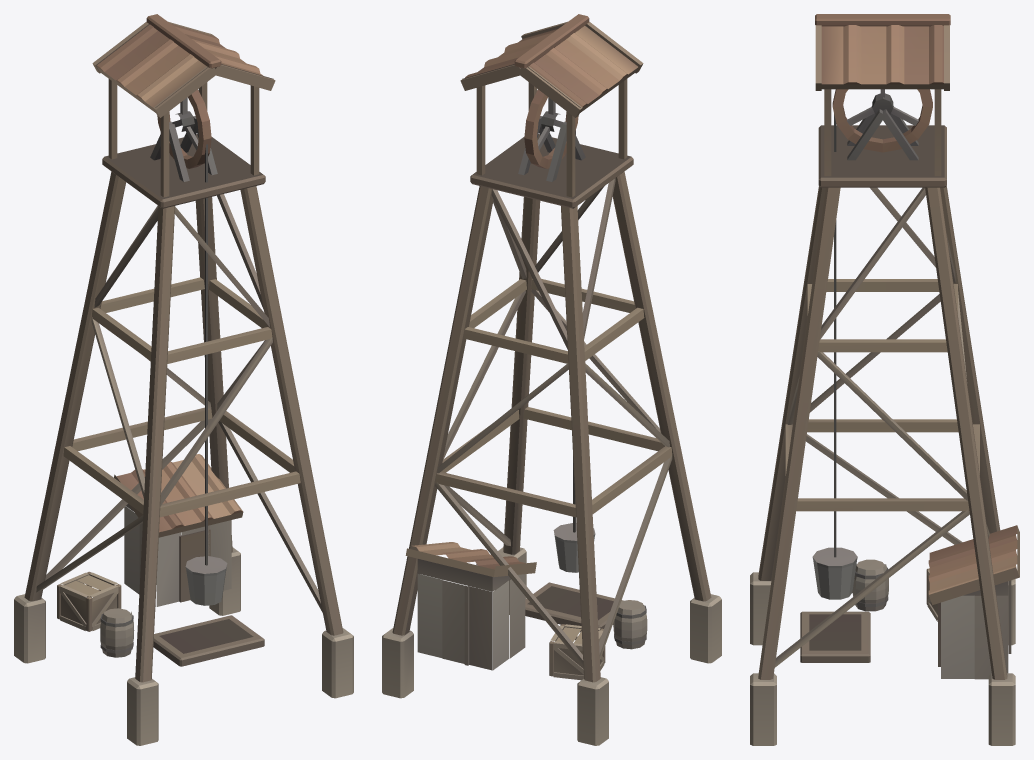
File: headframe.glb
3 views of the same model, side by side, from view 1: azimuth 30°, elevation 25°; view 2: azimuth 150°, elevation 25°; view 3: azimuth 270°, elevation 25° (orthographic). The views are drawn at different scales.
Bounding box in the file's own units: 4.34 × 12.15 × 4.41.
